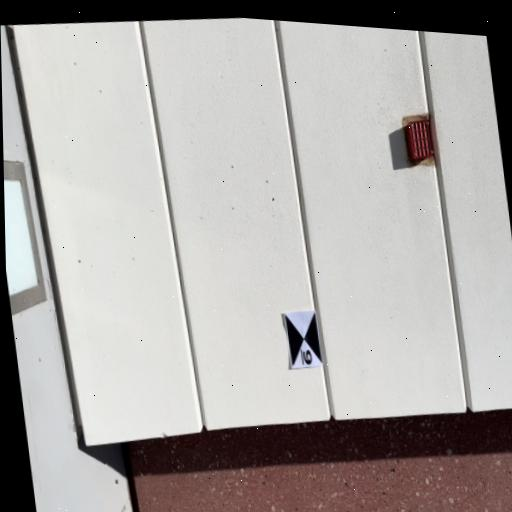target9: (285, 309, 324, 367)
